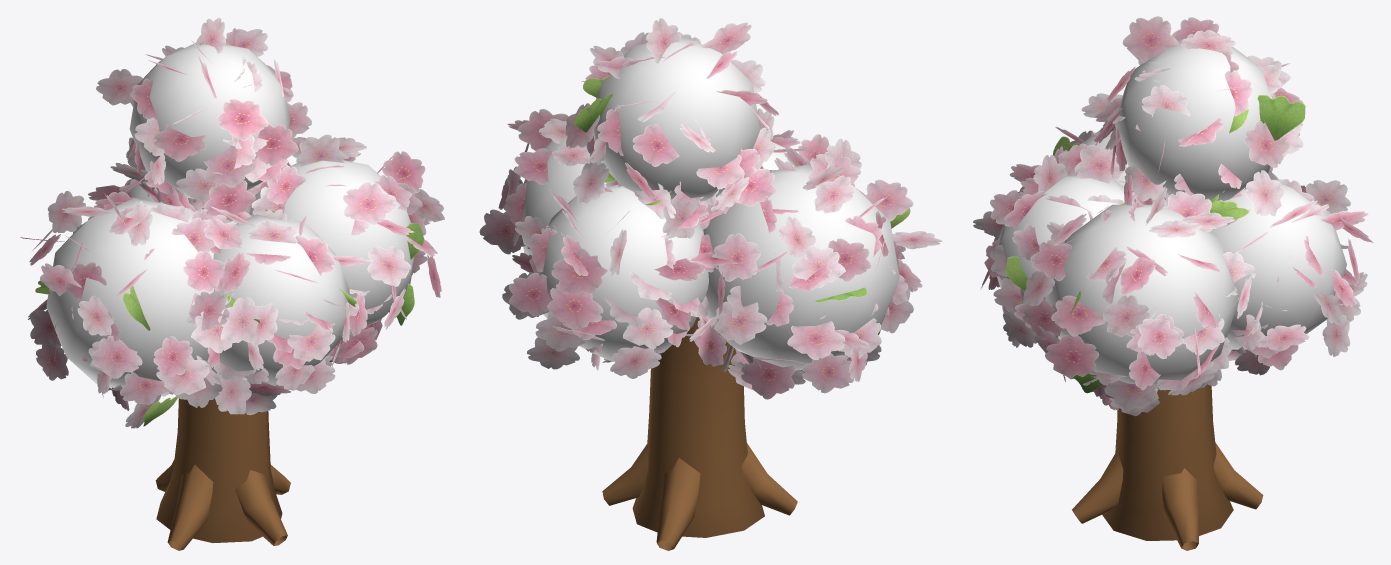
File: tree-tall-blossom.glb
3 renders of one model, left to right at view 1: azimuth 30°, elevation 25°; view 2: azimuth 150°, elevation 25°; view 3: azimuth 270°, elevation 25°, orthographic. The views are drawn at different scales.
Parts seen in each view (by area): view 1: Crown, Hull, Trunk; view 2: Crown, Hull, Trunk; view 3: Crown, Hull, Trunk.
Part boxes in pixels (bbox=[...]): Crown: bbox=[20, 17, 444, 428]; Hull: bbox=[46, 42, 414, 391]; Trunk: bbox=[155, 398, 290, 550]; Crown: bbox=[479, 18, 942, 399]; Hull: bbox=[522, 36, 899, 370]; Trunk: bbox=[602, 317, 797, 550]; Crown: bbox=[973, 16, 1373, 416]; Hull: bbox=[997, 41, 1346, 389]; Trunk: bbox=[1072, 384, 1263, 550].
Size of the model in its own units: 3 by 3.56 by 2.64.
Materials: 4 (1 with a texture image).
